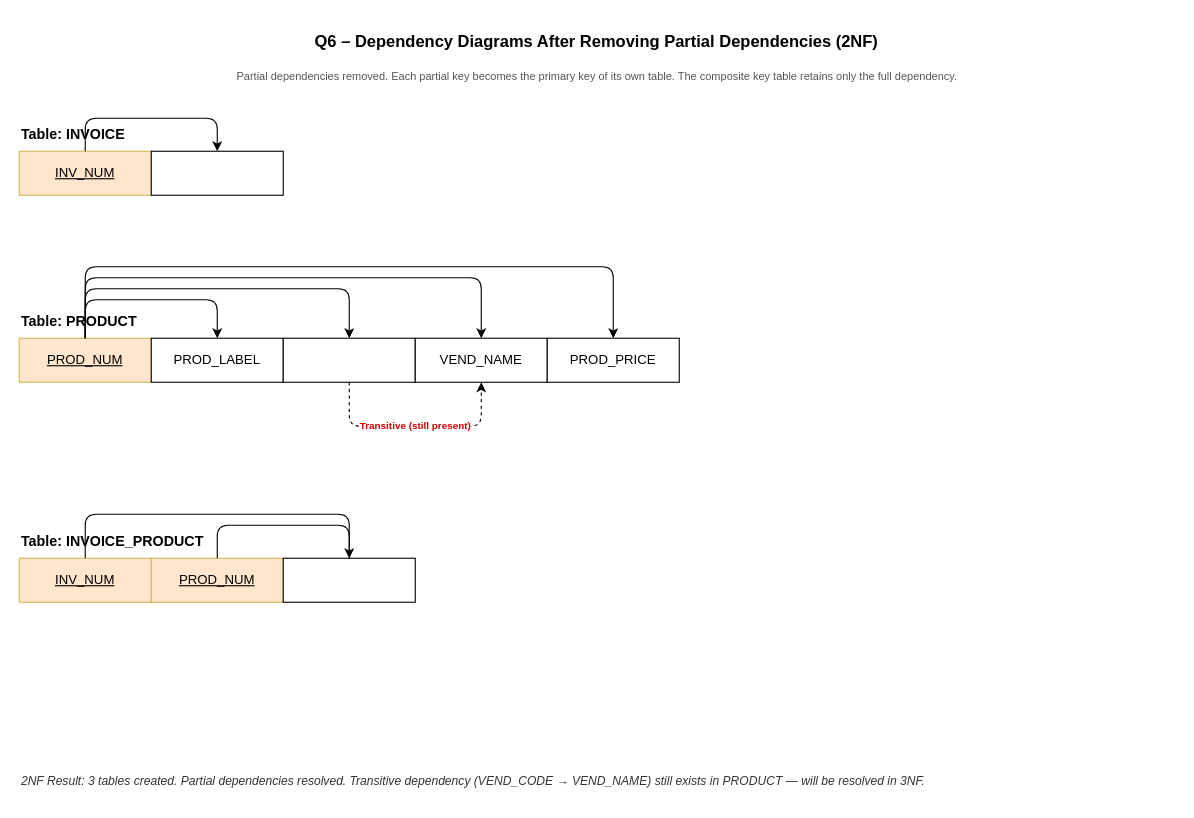
The diagram is 1194 pixels wide and 818 high, and some of its shapes have lost their labels. The shapes that lost their labels are listed below. From the top down, each one's centre as x and y in pixels, then its label:
At (x=216, y=172): "SALE_DATE".
At (x=348, y=359): "VEND_CODE".
At (x=348, y=579): "QUANT_SOLD".
